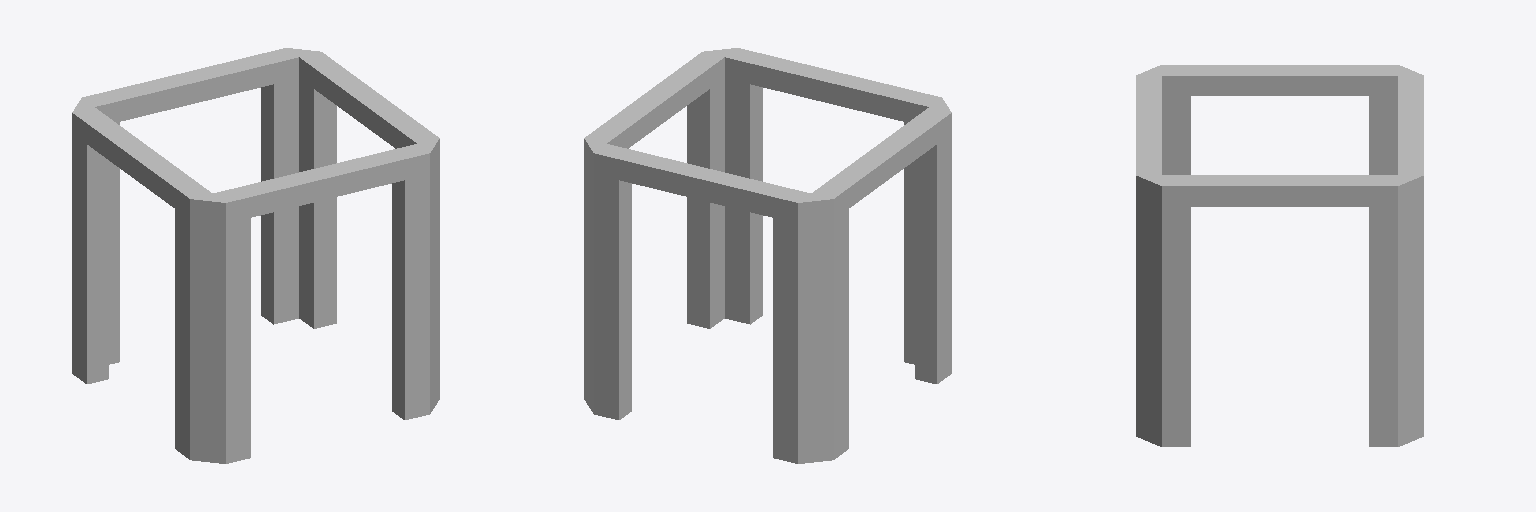
File: metalStructureBottom.obj
The picture shows the model from 3 angles: view 1: azimuth 30°, elevation 25°; view 2: azimuth 150°, elevation 25°; view 3: azimuth 270°, elevation 25°; orthographic projection.
Parts seen in each view (by area): view 1: metalStructureBottom; view 2: metalStructureBottom; view 3: metalStructureBottom.
Boxes of the visible parts, x1=… form: metalStructureBottom: x1=72, y1=48, x2=439, y2=463; metalStructureBottom: x1=584, y1=48, x2=951, y2=463; metalStructureBottom: x1=1136, y1=65, x2=1423, y2=446.
Bounding box in the file's own units: 10 × 10 × 10.